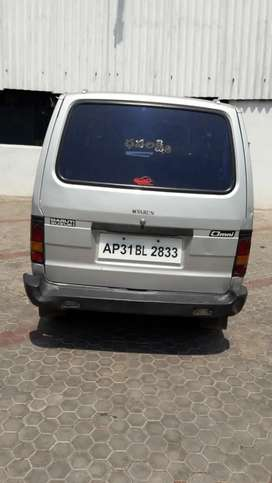AP31BL2833: (98, 231, 182, 263)
